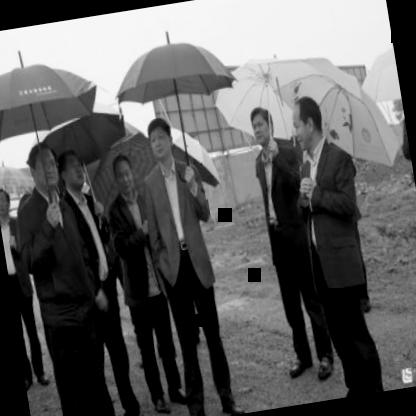head: (288, 90, 330, 158), (24, 140, 62, 198), (142, 112, 179, 166), (54, 144, 90, 198), (245, 102, 276, 151), (109, 152, 140, 200), (0, 184, 13, 221)
